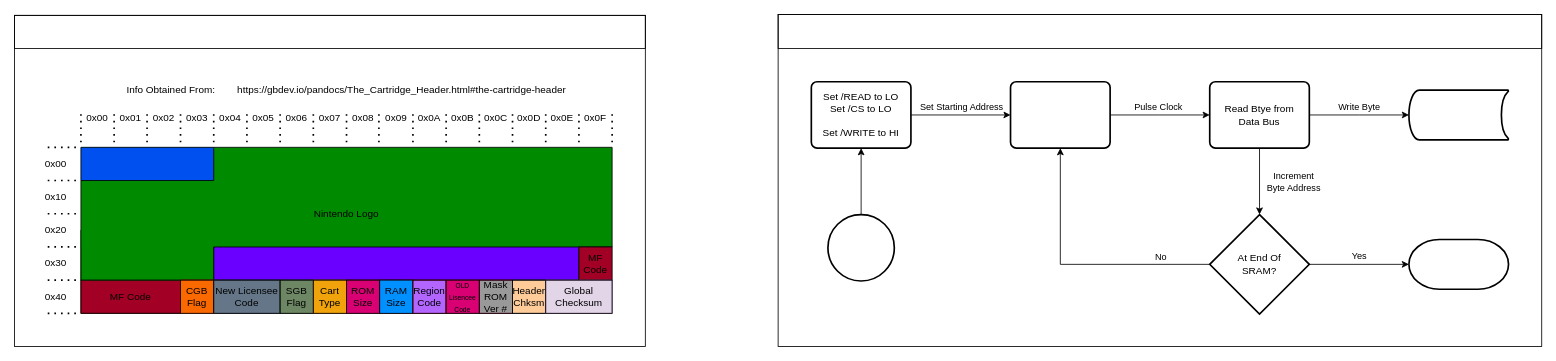
The diagram is 1556 pixels wide and 361 high, and some of its shapes have lost their labels. The centre of each missing label's shape, as x and y in pixels:
Entry Point: (x=147, y=163)
External Storage: (x=1458, y=114)
Gameboy Cartridge Memory Map: (x=329, y=32)
Load Byte Address Onto Addr Bus: (x=1060, y=115)
SRAM Read/Backup Flow Diagram: (x=1159, y=31)
Start Backup: (x=861, y=247)
Stop Backup: (x=1458, y=264)
Title: (x=396, y=263)
